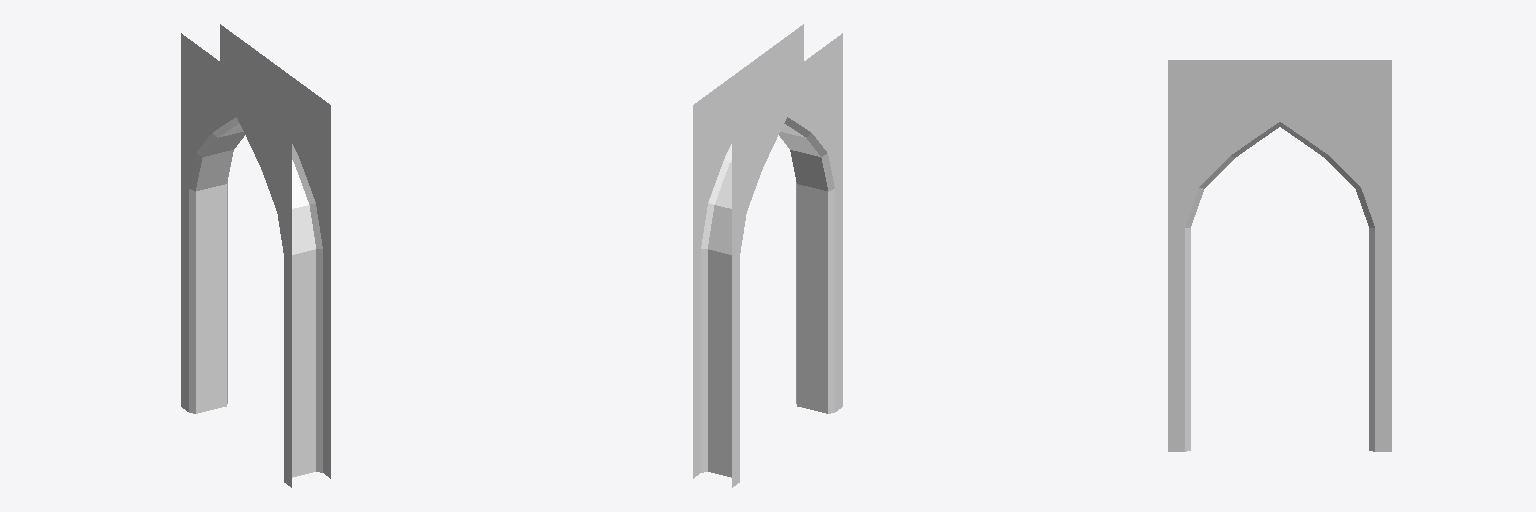
The model's file is Arch_Large.obj.
3 views of the same model, side by side, from view 1: azimuth 30°, elevation 25°; view 2: azimuth 150°, elevation 25°; view 3: azimuth 270°, elevation 25° (orthographic).
Visible parts, largest first — view 1: Arch_Scene.037; view 2: Arch_Scene.037; view 3: Arch_Scene.037.
Boxes of the visible parts, x1,y1,x2,y2 form: Arch_Scene.037: [181, 24, 330, 487]; Arch_Scene.037: [693, 24, 842, 487]; Arch_Scene.037: [1168, 60, 1391, 451].
Size of the model in its own units: 2 by 18.48 by 10.